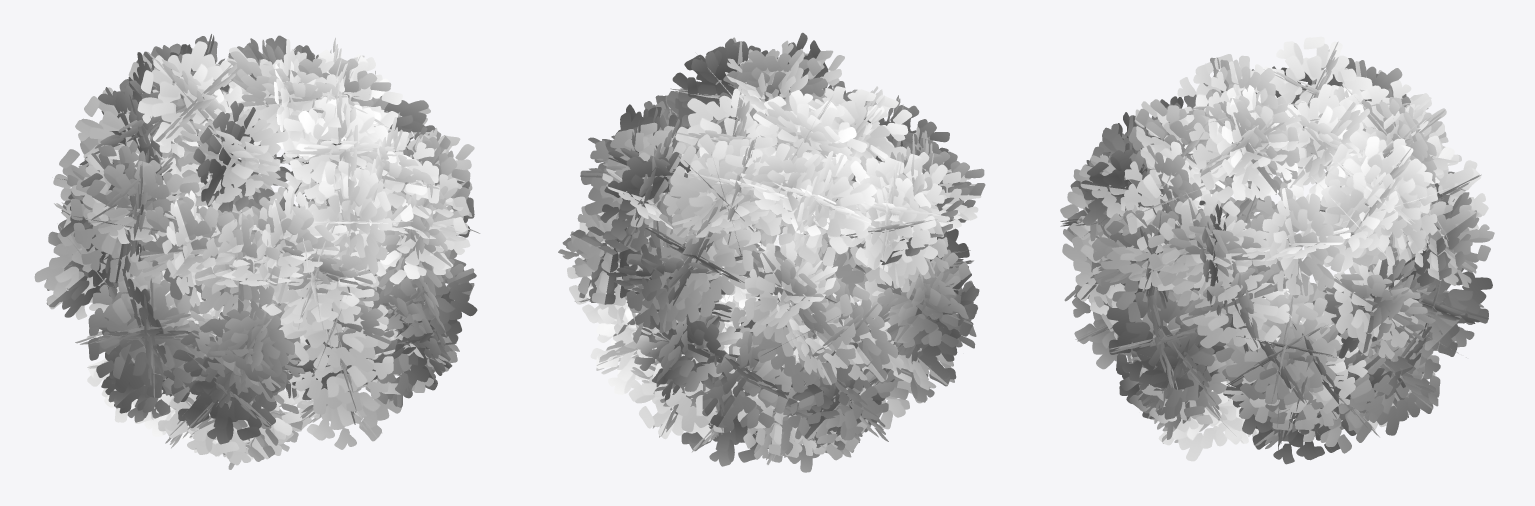
File: StylisedBush.fbx
The picture shows the model from 3 angles, left to right: view 1: azimuth 30°, elevation 25°; view 2: azimuth 150°, elevation 25°; view 3: azimuth 270°, elevation 25°; orthographic projection. The views are drawn at different scales.
Visible parts, largest first — view 1: Leaf3Plane.037; view 2: Leaf3Plane.037; view 3: Leaf3Plane.037.
Part boxes in pixels (box(x1,y1,x2,y2)): Leaf3Plane.037: box(34, 34, 480, 469); Leaf3Plane.037: box(558, 32, 985, 472); Leaf3Plane.037: box(1060, 36, 1494, 464).
Bounding box in the file's own units: 286 × 291 × 293.
